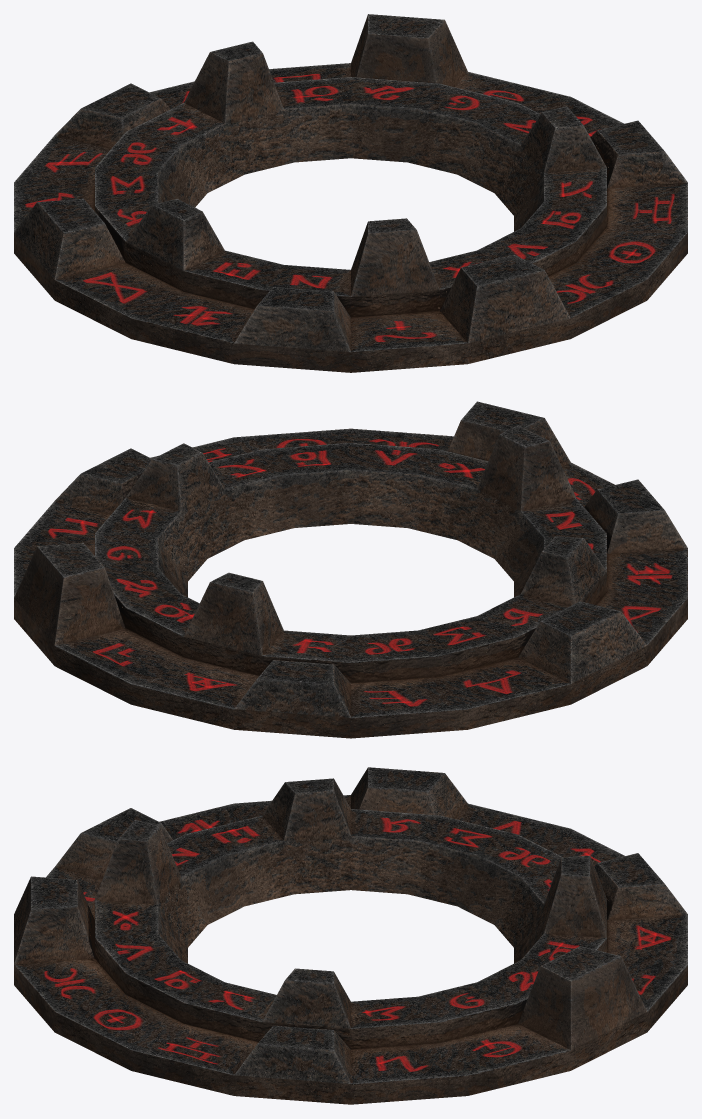
3 views of the same model, one above another, from view 1: azimuth 30°, elevation 25°; view 2: azimuth 150°, elevation 25°; view 3: azimuth 270°, elevation 25° (orthographic).
Parts seen in each view (by area): view 1: Cylinder001; view 2: Cylinder001; view 3: Cylinder001.
Boxes of the visible parts, x1,y1,x2,y2 form: Cylinder001: [14, 14, 687, 372]; Cylinder001: [14, 401, 687, 738]; Cylinder001: [14, 767, 687, 1104].
Bounding box in the file's own units: 236 × 36.57 × 233.
